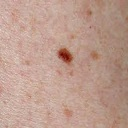Melanoma: (58, 47, 76, 65)
